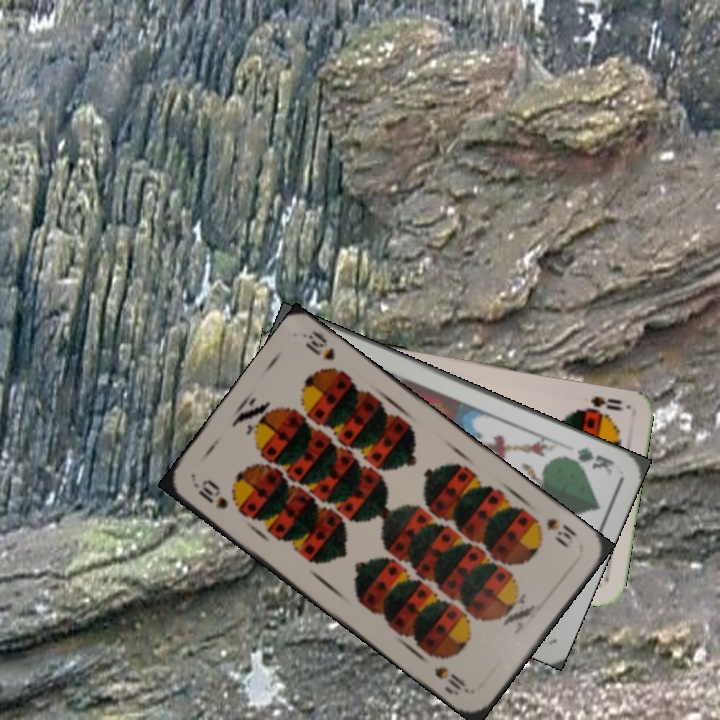GK: (560, 442, 616, 478)
S10: (541, 513, 579, 551), (190, 477, 231, 512)
SO: (587, 392, 624, 414)
